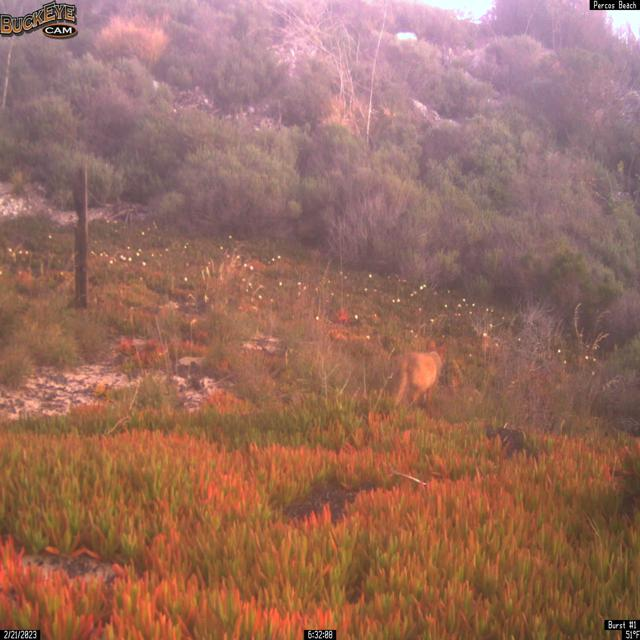coyote: (390, 338, 449, 413)
